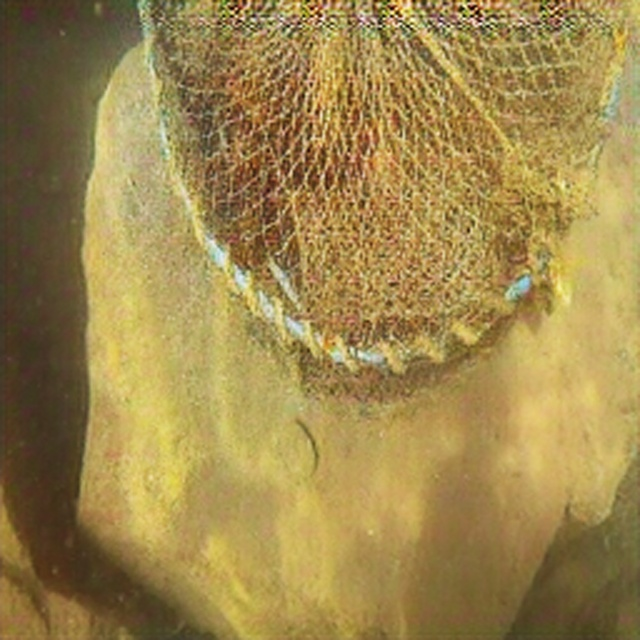mine: (139, 0, 630, 412)
